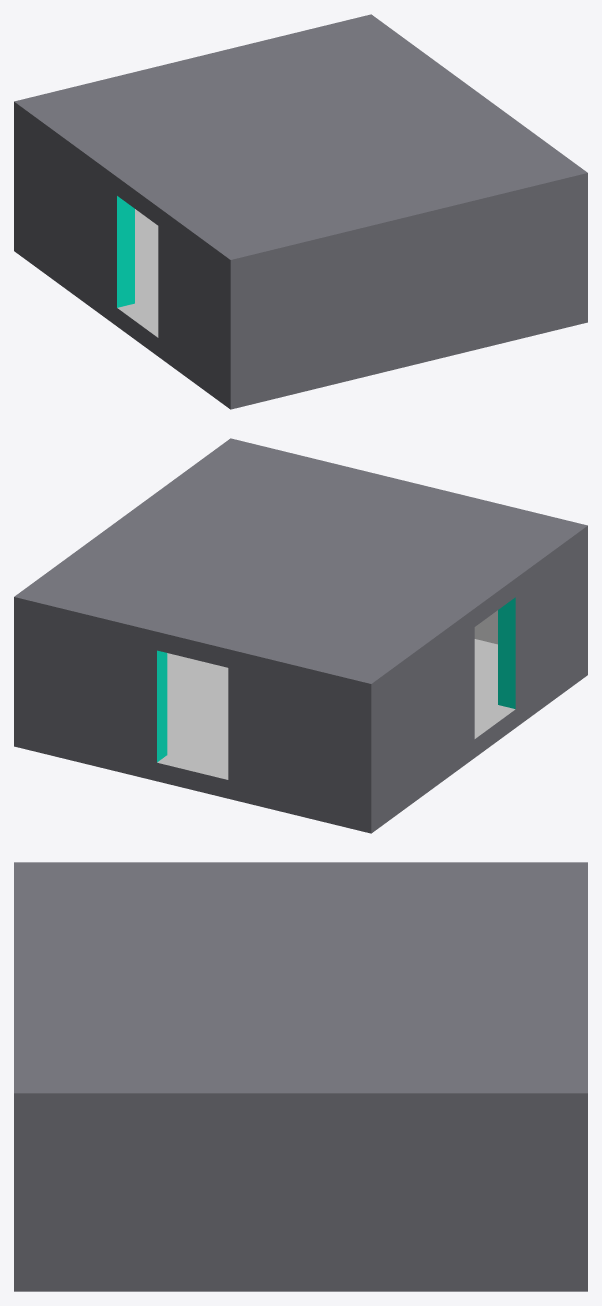
The model's file is Godot Test Room 3.gltf.
3 views of the same model, one above another, from view 1: azimuth 30°, elevation 25°; view 2: azimuth 150°, elevation 25°; view 3: azimuth 270°, elevation 25° (orthographic). The views are drawn at different scales.
Parts seen in each view (by area): view 1: root001, root002; view 2: root001, root002; view 3: root001, root002.
Part boxes in pixels (bbox=[...]): root001: bbox=[14, 14, 587, 278]; root002: bbox=[14, 120, 587, 409]; root001: bbox=[14, 438, 587, 702]; root002: bbox=[14, 544, 587, 833]; root001: bbox=[14, 862, 587, 1118]; root002: bbox=[14, 1118, 587, 1291].
Size of the model in its own units: 10 by 4 by 10.5.
